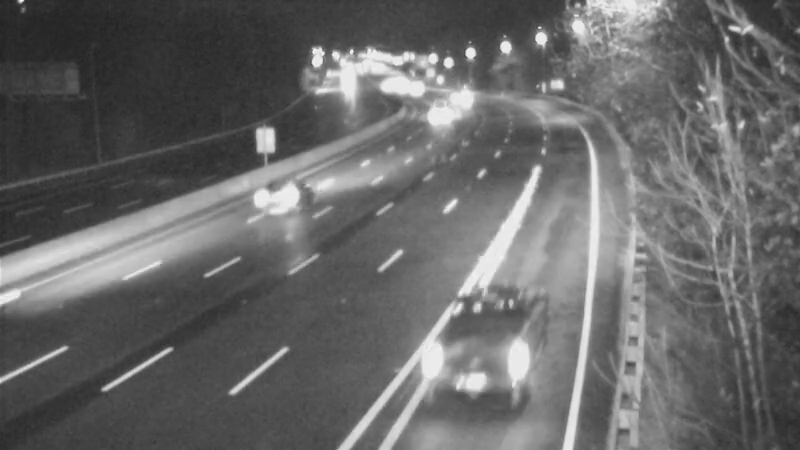vehicle: (418, 307, 528, 417), (243, 160, 323, 240), (390, 65, 440, 115), (436, 74, 486, 124), (417, 86, 467, 136)
